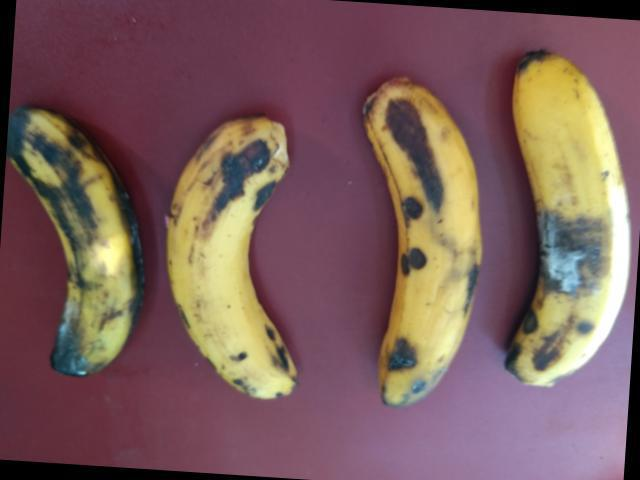overripe: (337, 68, 500, 433), (162, 103, 319, 406)
rotten: (495, 45, 639, 406), (0, 87, 163, 391)
